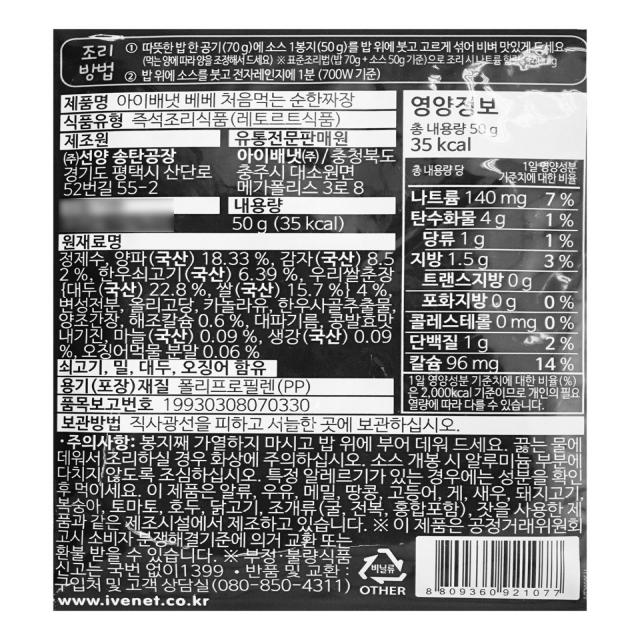Nutrition Label: (397, 84, 595, 421)
